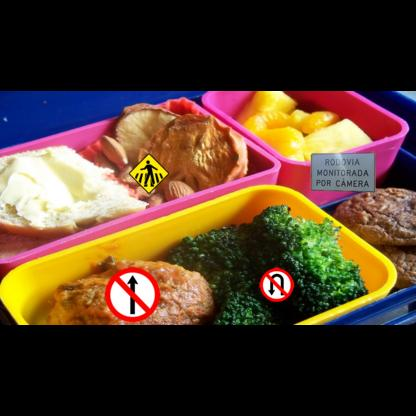A-32b: (128, 153, 170, 194)
I-E: (311, 152, 375, 193)
R-3: (105, 267, 160, 322)
R-5a: (259, 268, 294, 302)
